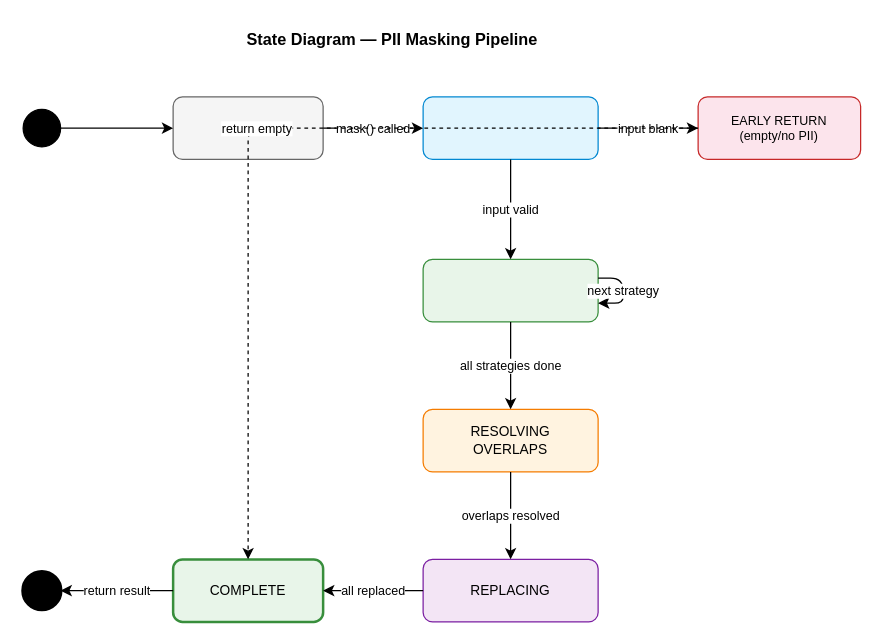
This 883x644 diagram has some shape labels left out. Here are the shapes that lost their labels. From the top down, the centre of each, then its label:
At point 510,127: "VALIDATING".
At point 510,290: "DETECTING".
